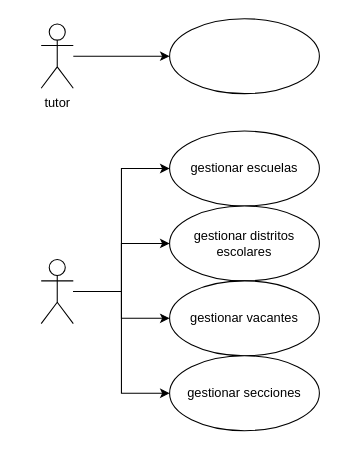
Image size: 338x449. Some labels were removed from this diagram. The shapes that lost their labels are listed below. From the top down, each one's centre as x and y in pixels, then its label:
At point 244,56: "gestionar inscripcion".
At point 56,291: "administrador".
